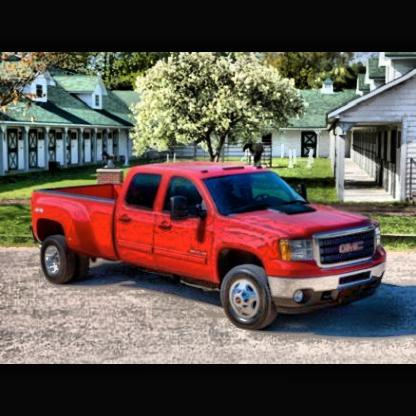GMC Canyon Extended Cab 2012: (30, 159, 390, 331)
